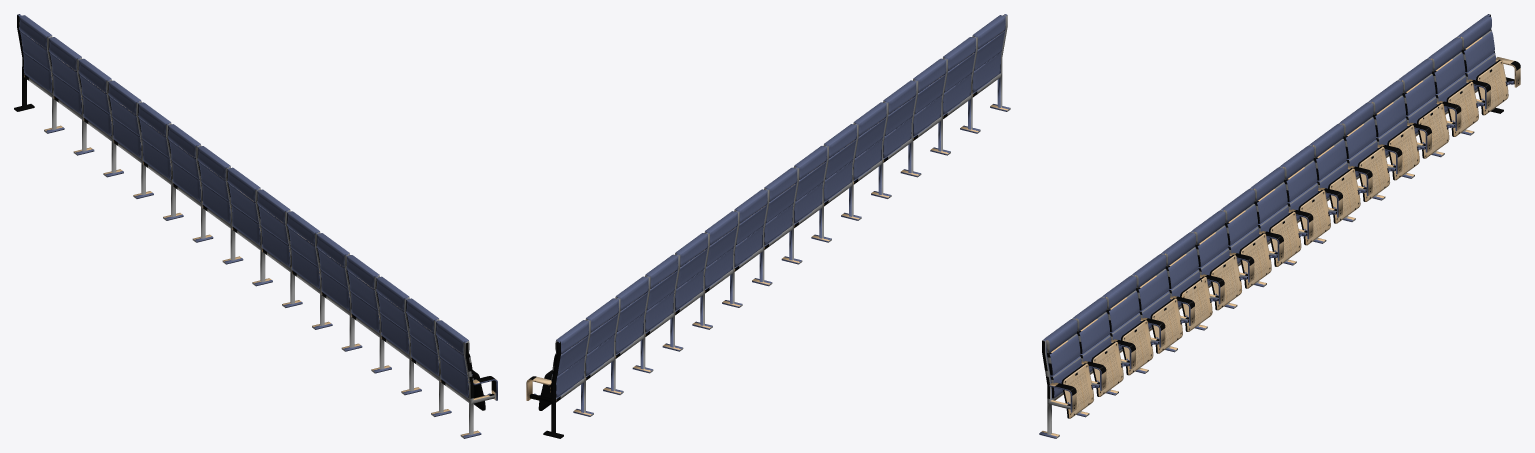
File: AuditoriumSeats.fbx
3 renders of one model, left to right at view 1: azimuth 30°, elevation 25°; view 2: azimuth 150°, elevation 25°; view 3: azimuth 330°, elevation 25°, orthographic.
Visible parts, largest first — view 1: Seat.002; view 2: Seat.002; view 3: Seat.002.
Part boxes in pixels (x1,y1,x2,y2): Seat.002: [14, 14, 497, 438]; Seat.002: [526, 14, 1010, 438]; Seat.002: [1039, 14, 1520, 438].
Bounding box in the file's own units: 1.8 × 4.89 × 42.
